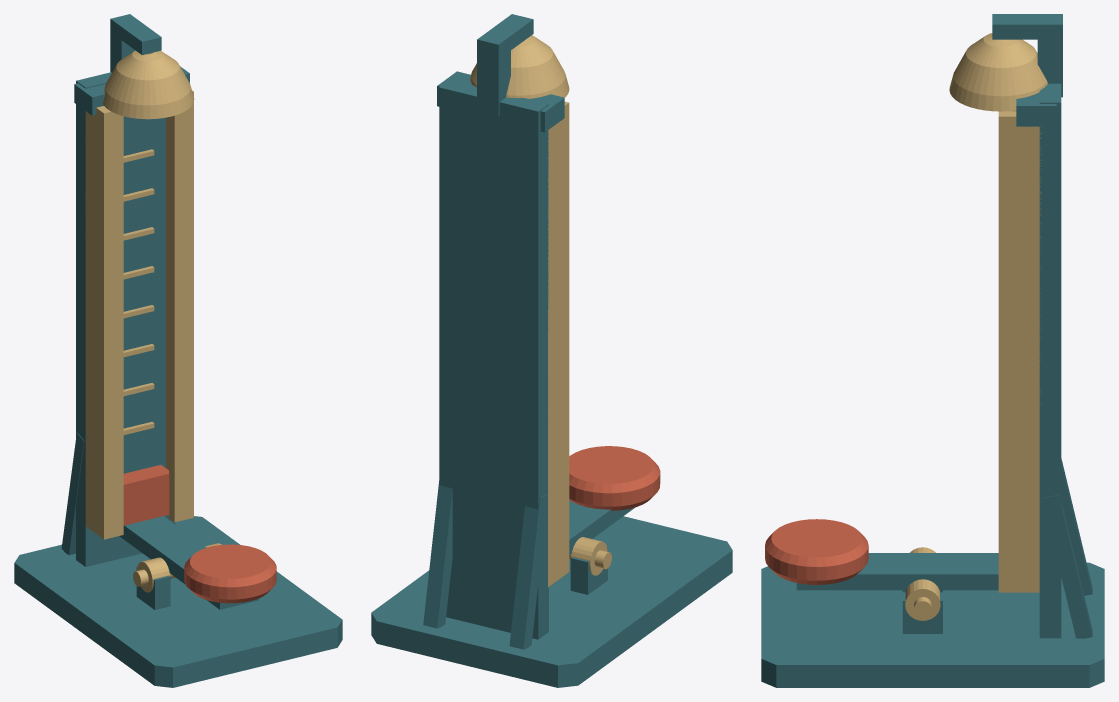
The picture shows the model from 3 angles, left to right: view 1: azimuth 30°, elevation 25°; view 2: azimuth 150°, elevation 25°; view 3: azimuth 270°, elevation 25°; orthographic projection. The views are drawn at different scales.
Parts seen in each view (by area): view 1: WholeChamferCornerGroundPlatform, WholeRearGuideTowerBack, LeftWholeReturnedGuideStile, RightWholeReturnedGuideStile, WholeOpenBottomBell, WholeBroadRoundStrikePad, WholeLongStrikeLever, WholeFixedLowGuidePuck, WholeBellTopBracket, LeftWholeLowerRearBrace, LeftWholeFulcrumBearingRoot, WholeGuideHeadTie (+2 smaller); view 2: WholeRearGuideTowerBack, WholeChamferCornerGroundPlatform, LeftWholeReturnedGuideStile, WholeBroadRoundStrikePad, LeftWholeLowerRearBrace, WholeOpenBottomBell, RightWholeLowerRearBrace, WholeRearBellMast, WholeBellTopBracket, WholeLongStrikeLever, WholeGuideHeadTie, LeftWholeFulcrumBearingRoot (+1 smaller); view 3: WholeChamferCornerGroundPlatform, RightWholeReturnedGuideStile, WholeRearGuideTowerBack, WholeBroadRoundStrikePad, WholeOpenBottomBell, WholeLongStrikeLever, RightWholeLowerRearBrace, WholeBellTopBracket, WholeRearBellMast, LeftWholeLowerRearBrace, WholeGuideHeadTie, RightWholeBoredFulcrumBearing (+1 smaller).
Part boxes in pixels (bbox=[...]): WholeChamferCornerGroundPlatform: bbox=[14, 516, 342, 687]; WholeRearGuideTowerBack: bbox=[76, 72, 175, 566]; LeftWholeReturnedGuideStile: bbox=[85, 106, 123, 539]; RightWholeReturnedGuideStile: bbox=[166, 90, 193, 522]; WholeOpenBottomBell: bbox=[103, 50, 194, 119]; WholeBroadRoundStrikePad: bbox=[184, 544, 276, 603]; WholeLongStrikeLever: bbox=[119, 516, 258, 609]; WholeFixedLowGuidePuck: bbox=[123, 465, 169, 525]; WholeBellTopBracket: bbox=[110, 14, 161, 55]; LeftWholeLowerRearBrace: bbox=[61, 432, 84, 555]; LeftWholeFulcrumBearingRoot: bbox=[136, 567, 170, 609]; WholeGuideHeadTie: bbox=[74, 66, 189, 115]; WholeRearGuideTowerBack: bbox=[439, 80, 548, 639]; WholeChamferCornerGroundPlatform: bbox=[371, 516, 732, 687]; LeftWholeReturnedGuideStile: bbox=[548, 101, 569, 587]; WholeBroadRoundStrikePad: bbox=[569, 446, 660, 510]; LeftWholeLowerRearBrace: bbox=[509, 494, 547, 649]; WholeOpenBottomBell: bbox=[470, 35, 569, 98]; RightWholeLowerRearBrace: bbox=[423, 481, 452, 628]; WholeRearBellMast: bbox=[477, 40, 510, 116]; WholeBellTopBracket: bbox=[477, 14, 533, 59]; WholeLongStrikeLever: bbox=[569, 500, 634, 555]; WholeGuideHeadTie: bbox=[437, 71, 564, 132]; LeftWholeFulcrumBearingRoot: bbox=[570, 547, 607, 594]; WholeChamferCornerGroundPlatform: bbox=[761, 562, 1104, 687]; RightWholeReturnedGuideStile: bbox=[998, 111, 1041, 592]; WholeRearGuideTowerBack: bbox=[1039, 83, 1061, 638]; WholeBroadRoundStrikePad: bbox=[765, 519, 868, 584]; WholeOpenBottomBell: bbox=[949, 33, 1047, 111]; WholeLongStrikeLever: bbox=[796, 553, 998, 590]; RightWholeLowerRearBrace: bbox=[1042, 495, 1092, 638]; WholeBellTopBracket: bbox=[992, 14, 1062, 39]; WholeRearBellMast: bbox=[1037, 28, 1062, 97]; LeftWholeLowerRearBrace: bbox=[1061, 458, 1092, 595]; WholeGuideHeadTie: bbox=[1016, 92, 1056, 126]; RightWholeBoredFulcrumBearing: bbox=[905, 579, 940, 620].
Size of the model in its own units: 0.96 by 2.7 by 1.36.
